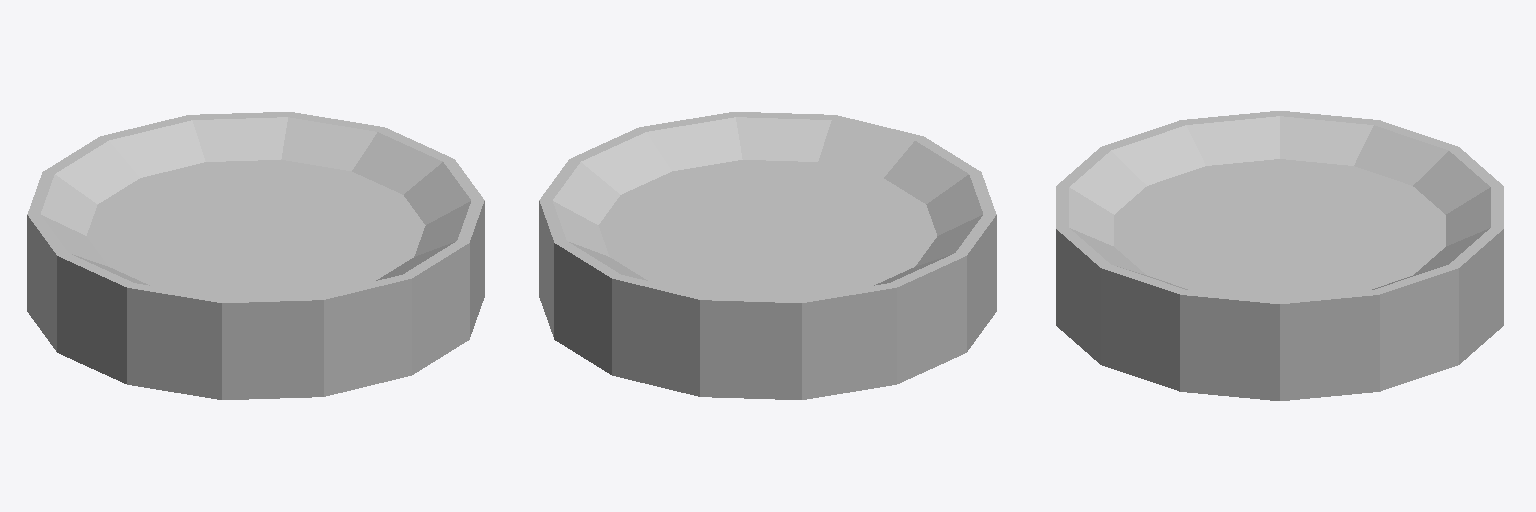
File: CandleHolder_001.obj
The picture shows the model from 3 angles: view 1: azimuth 30°, elevation 25°; view 2: azimuth 150°, elevation 25°; view 3: azimuth 270°, elevation 25°; orthographic projection.
Parts seen in each view (by area): view 1: CandleHolder_001 Candles; view 2: CandleHolder_001 Candles; view 3: CandleHolder_001 Candles.
Part boxes in pixels (bbox=[...]): CandleHolder_001 Candles: bbox=[27, 112, 484, 399]; CandleHolder_001 Candles: bbox=[539, 112, 996, 399]; CandleHolder_001 Candles: bbox=[1056, 111, 1503, 400].
Size of the model in its own units: 13.54 by 3.16 by 13.2.